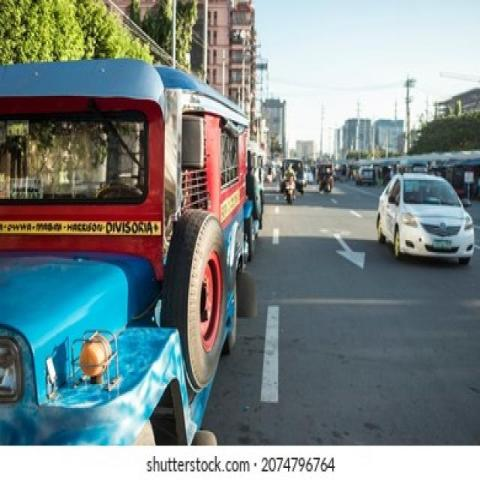car: (374, 172, 475, 271)
jeepney: (0, 60, 266, 446)
motorcycle: (283, 168, 298, 205)
